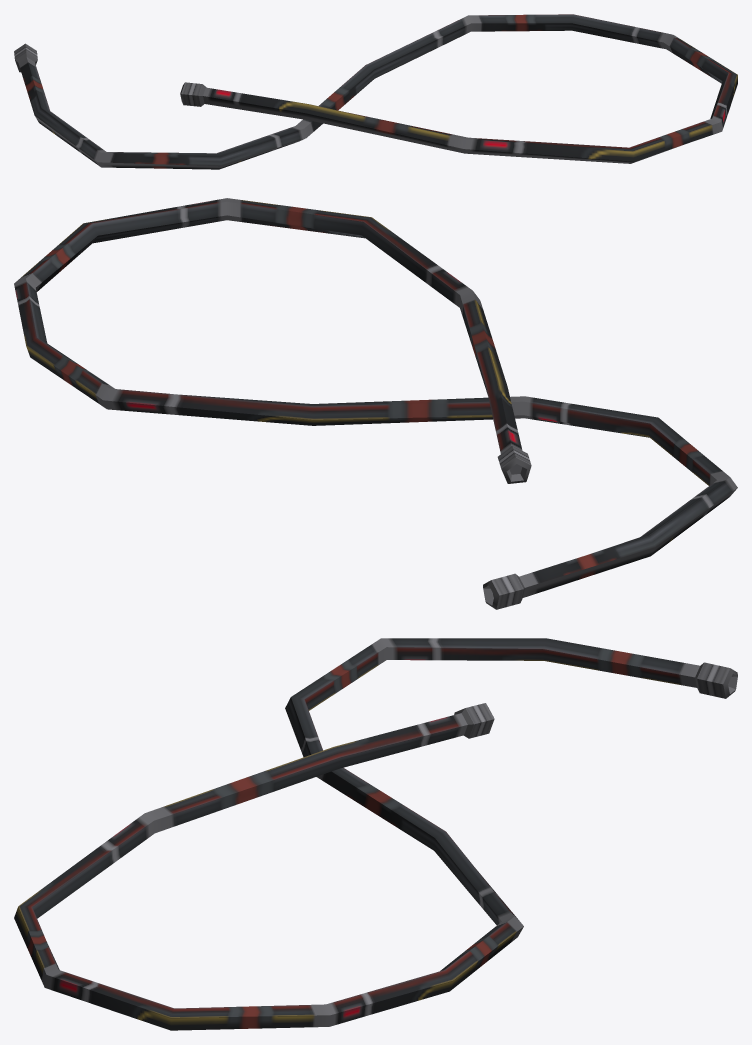
File: SM_Prop_Wires_10.fbx
The picture shows the model from 3 angles, top to bottom: view 1: azimuth 30°, elevation 25°; view 2: azimuth 150°, elevation 25°; view 3: azimuth 270°, elevation 25°; orthographic projection. The views are drawn at different scales.
Visible parts, largest first — view 1: SM_Prop_Wires_10; view 2: SM_Prop_Wires_10; view 3: SM_Prop_Wires_10.
Part boxes in pixels (x1=…): SM_Prop_Wires_10: x1=14, y1=14, x2=737, y2=169; SM_Prop_Wires_10: x1=14, y1=198, x2=737, y2=609; SM_Prop_Wires_10: x1=14, y1=638, x2=737, y2=1030.
Bounding box in the file's own units: 337 × 17.48 × 272.
